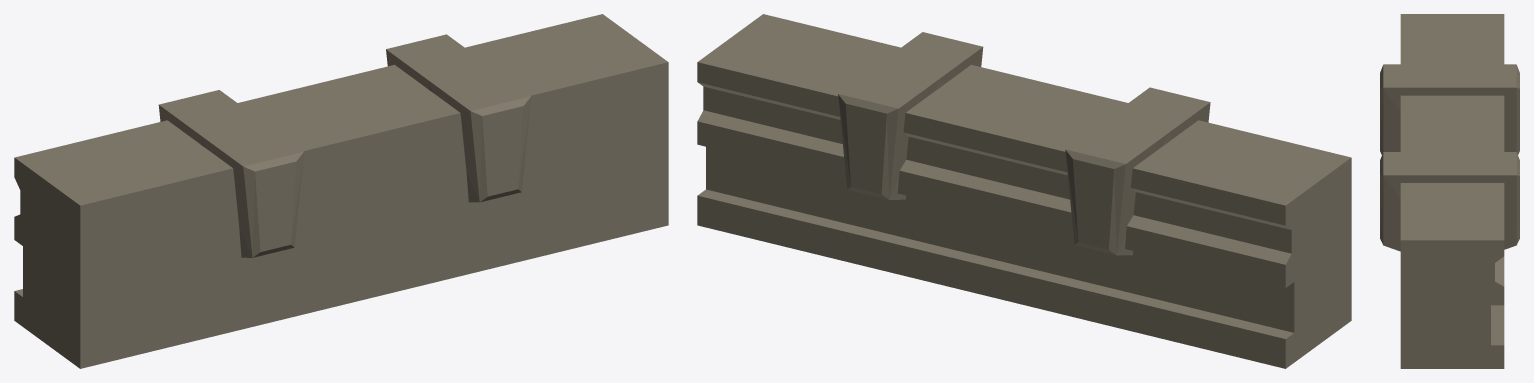
File: TempleFrameC_A.fbx
3 renders of one model, left to right at view 1: azimuth 30°, elevation 25°; view 2: azimuth 150°, elevation 25°; view 3: azimuth 270°, elevation 25°, orthographic. The views are drawn at different scales.
Parts seen in each view (by area): view 1: TempleFrameC_A; view 2: TempleFrameC_A; view 3: TempleFrameC_A.
Part boxes in pixels (x1,y1,x2,y2): TempleFrameC_A: (14,14,668,368); TempleFrameC_A: (697,14,1351,368); TempleFrameC_A: (1380,14,1519,368).
Size of the model in its own units: 400 by 113 by 105.
